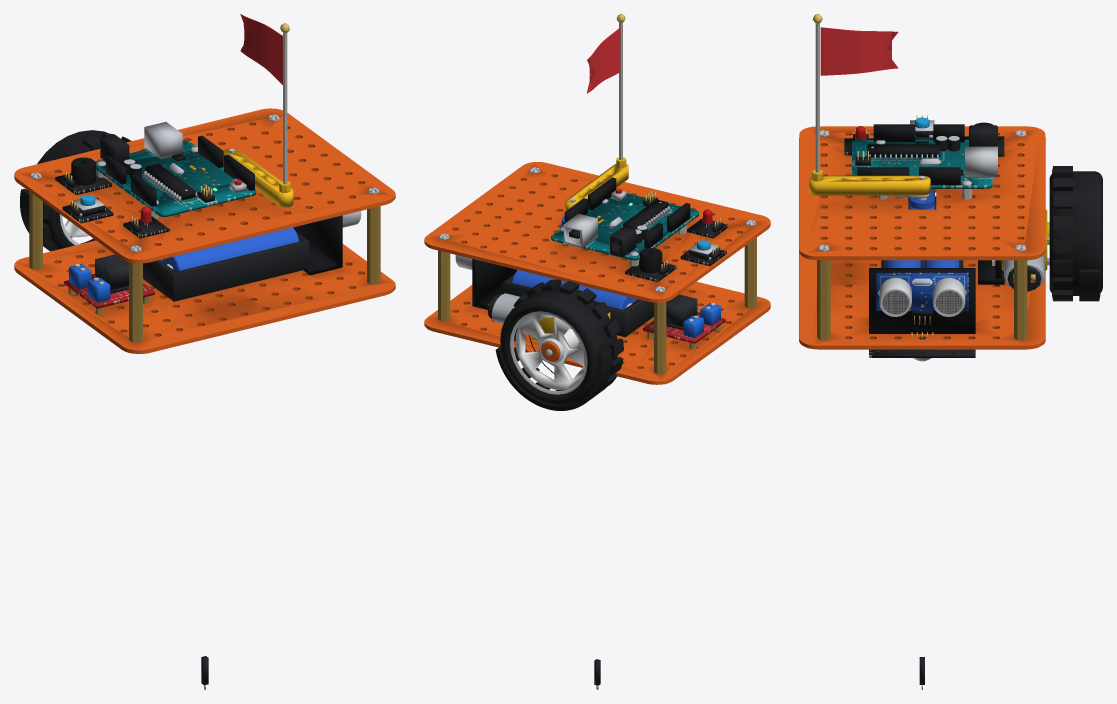
File: robot-kit-low.glb
3 renders of one model, left to right at view 1: azimuth 30°, elevation 25°; view 2: azimuth 150°, elevation 25°; view 3: azimuth 270°, elevation 25°, orthographic. The views are drawn at different scales.
Visible parts, largest first — view 1: chassis_plate_upper, chassis_plate_lower, board_static, chassis_battery, chassis_standoffs, chassis_driver, tyre, ultrasonic_static, pennant, servo_arm, buzzer_static, mast (+2 smaller); view 2: chassis_plate_upper, chassis_plate_lower, tyre, board_static, rim, chassis_standoffs, chassis_battery, chassis_driver, ultrasonic_static, pennant, buzzer_static, servo_arm (+3 smaller); view 3: chassis_plate_upper, chassis_plate_lower, board_static, ultrasonic_static, tyre, pennant, servo_arm, chassis_standoffs, line_static, mast, tt_can, chassis_battery (+1 smaller).
Part boxes in pixels (bbox=[...]): chassis_plate_upper: bbox=[14, 108, 395, 263]; chassis_plate_lower: bbox=[14, 240, 395, 353]; board_static: bbox=[96, 121, 255, 218]; chassis_battery: bbox=[143, 227, 309, 301]; chassis_standoffs: bbox=[29, 192, 380, 342]; chassis_driver: bbox=[64, 254, 154, 314]; tyre: bbox=[20, 130, 131, 251]; ultrasonic_static: bbox=[293, 211, 361, 275]; pennant: bbox=[240, 14, 282, 84]; servo_arm: bbox=[223, 148, 293, 207]; buzzer_static: bbox=[55, 157, 111, 195]; mast: bbox=[279, 23, 290, 192]; chassis_plate_upper: bbox=[424, 162, 770, 302]; chassis_plate_lower: bbox=[424, 281, 770, 384]; tyre: bbox=[495, 279, 623, 410]; board_static: bbox=[551, 177, 698, 267]; rim: bbox=[510, 311, 587, 394]; chassis_standoffs: bbox=[438, 237, 756, 374]; chassis_battery: bbox=[502, 270, 653, 337]; chassis_driver: bbox=[643, 294, 725, 349]; ultrasonic_static: bbox=[455, 255, 516, 309]; pennant: bbox=[587, 27, 620, 93]; buzzer_static: bbox=[625, 248, 676, 281]; servo_arm: bbox=[565, 164, 628, 211]; chassis_plate_upper: bbox=[799, 126, 1045, 260]; chassis_plate_lower: bbox=[799, 252, 1045, 349]; board_static: bbox=[852, 124, 997, 199]; ultrasonic_static: bbox=[869, 268, 975, 333]; tyre: bbox=[1049, 166, 1102, 301]; pennant: bbox=[820, 27, 898, 75]; servo_arm: bbox=[809, 175, 930, 197]; chassis_standoffs: bbox=[817, 260, 1027, 340]; line_static: bbox=[869, 332, 975, 357]; mast: bbox=[812, 14, 823, 181]; tt_can: bbox=[1004, 254, 1044, 291]; chassis_battery: bbox=[881, 260, 963, 267].
Size of the model in its own units: 0.1537 by 0.37 by 0.1481.
Materials: 43 (5 with a texture image).
